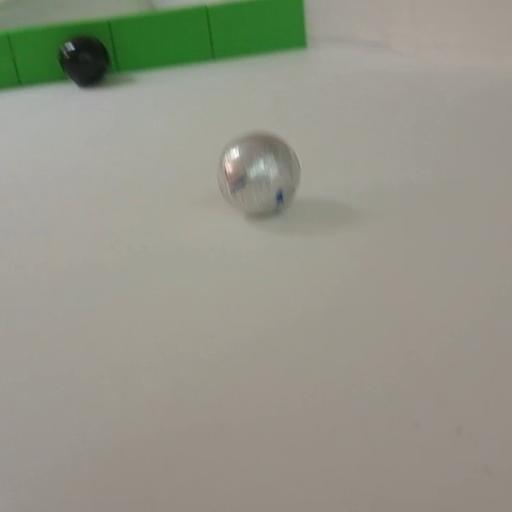alive: (216, 132, 300, 218)
dead: (57, 35, 110, 87)
